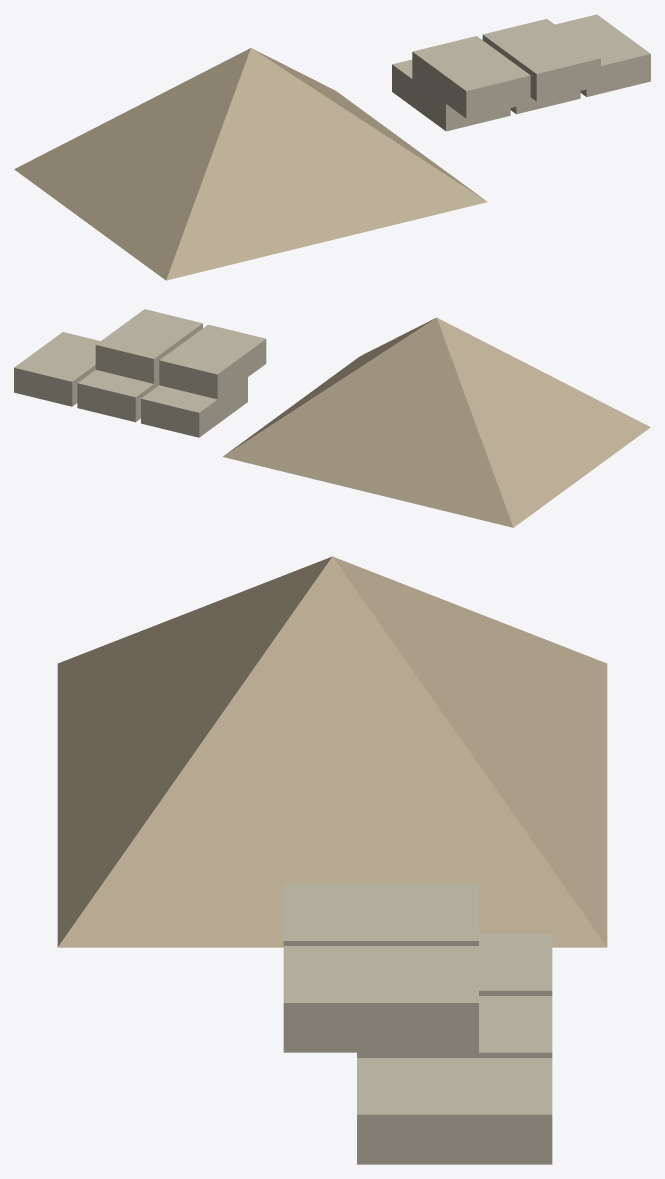
Rendered from monte_areia_sacos.glb.
3 views of the same model, one above another, from view 1: azimuth 30°, elevation 25°; view 2: azimuth 150°, elevation 25°; view 3: azimuth 270°, elevation 25° (orthographic). The views are drawn at different scales.
Visible parts, largest first — view 1: Malha_0; view 2: Malha_0; view 3: Malha_0.
Boxes of the visible parts, <box> form: Malha_0: <box>14,14,650,280</box>; Malha_0: <box>14,309,650,527</box>; Malha_0: <box>57,556,607,1164</box>.
Bounding box in the file's own units: 3.88 × 0.9 × 1.8.
